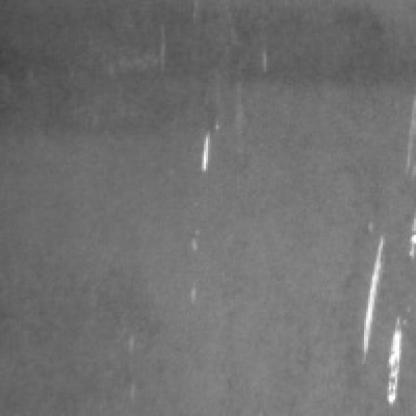scratches: (358, 227, 408, 407), (193, 116, 226, 177)
